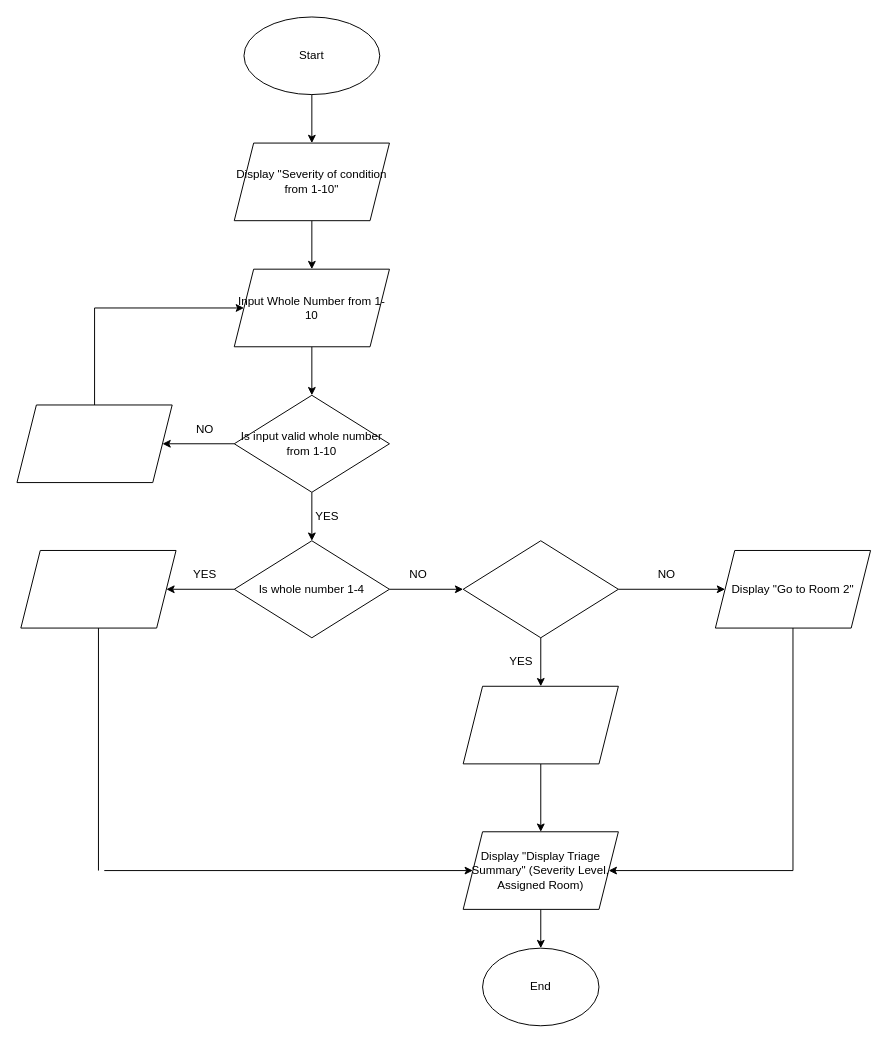
Image size: 888x1043. Some labels were removed from this diagram. Each missing label, with the box of its shape:
Display "Error please try again": (16, 404, 172, 483)
Display "Go to Room 1": (462, 685, 618, 764)
Display "Go to Waiting Room": (20, 550, 176, 628)
Is whole number 5-7: (462, 540, 618, 638)
